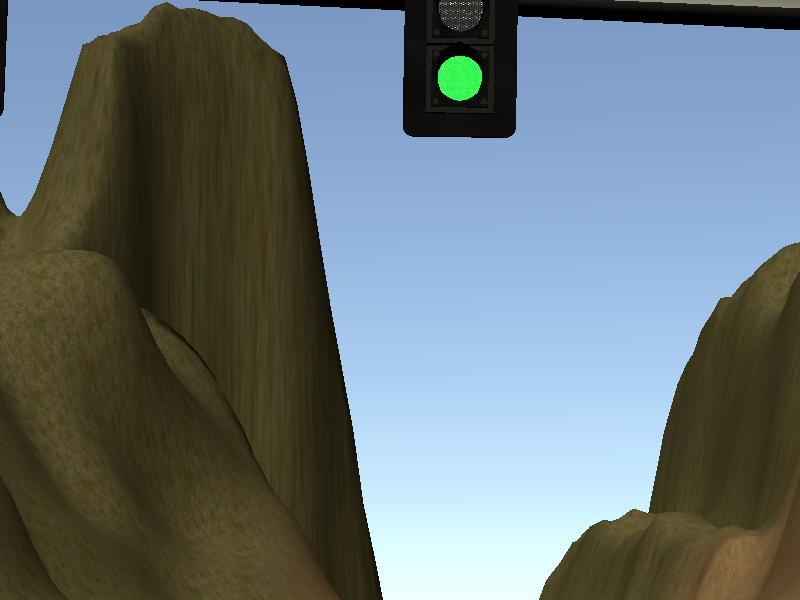Green: (404, 1, 516, 139)
